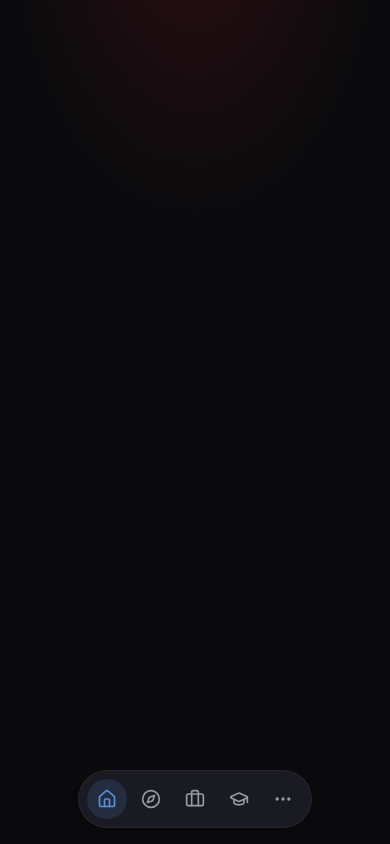
Scenario: TabMobileIsland › does not list Today or Review under More and none of the retired week screens (IA-P3); Insights is still there
The image size is (390, 844).
Click the button with test id "tab-mobile-island-item-more": (283, 799) left=263, top=779, right=303, bottom=819
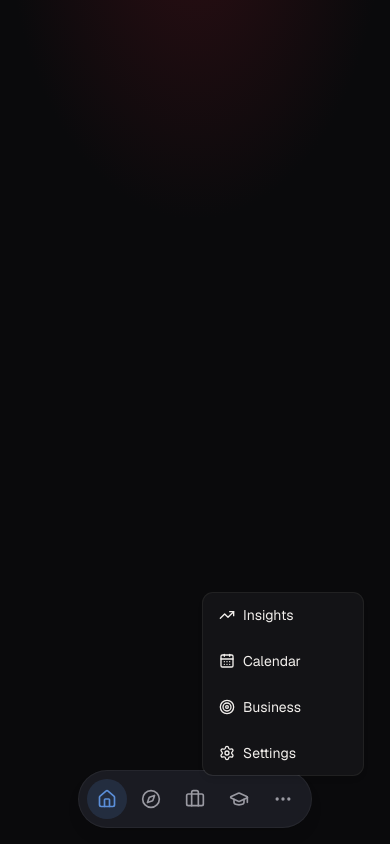
expect the link "Insights" is shown: met, box left=219, top=606, right=294, bottom=624
